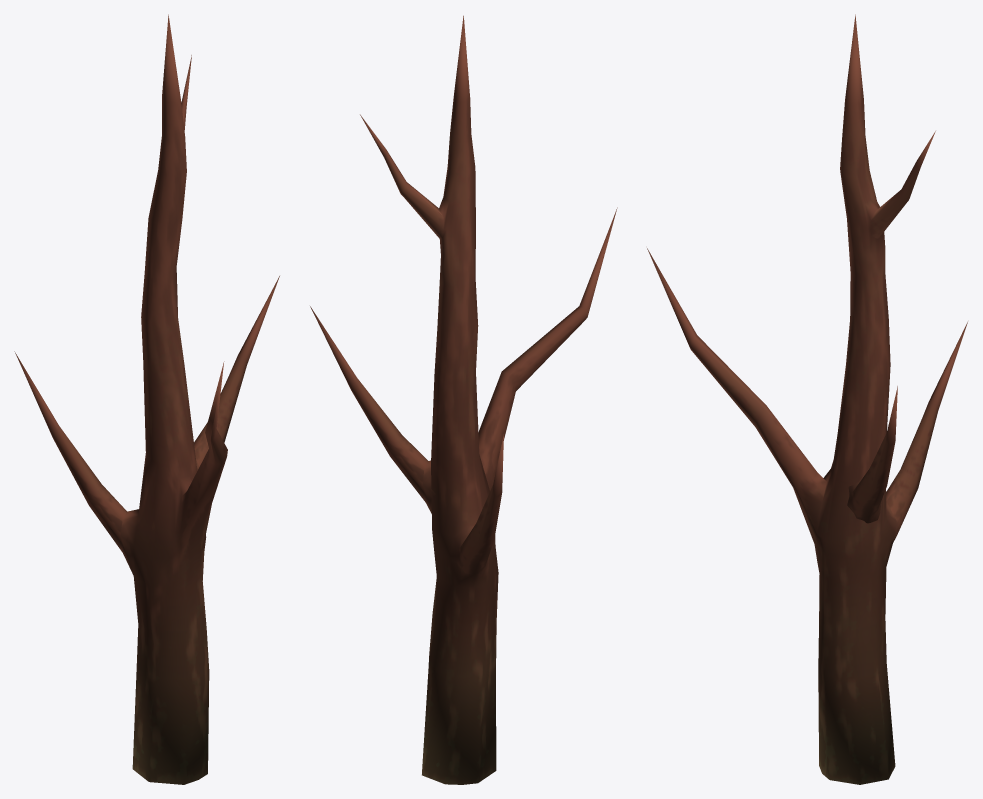
File: TreeBase_Low.fbx
The picture shows the model from 3 angles, left to right: view 1: azimuth 30°, elevation 25°; view 2: azimuth 150°, elevation 25°; view 3: azimuth 270°, elevation 25°; orthographic projection.
Visible parts, largest first — view 1: TreeBase_Low; view 2: TreeBase_Low; view 3: TreeBase_Low.
Part boxes in pixels (left/top/right/bottom): TreeBase_Low: left=14, top=14, right=279, bottom=784; TreeBase_Low: left=310, top=15, right=617, bottom=784; TreeBase_Low: left=647, top=14, right=967, bottom=784.
Bounding box in the file's own units: 63.56 × 199 × 77.27.
